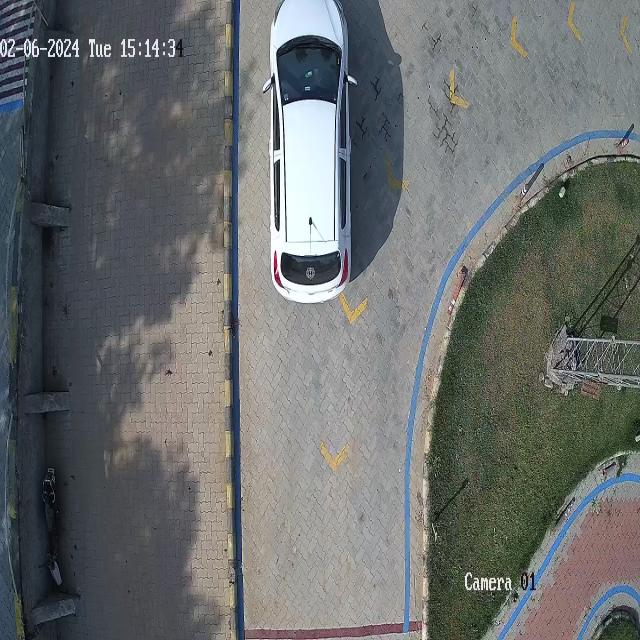car: (269, 0, 352, 300)
